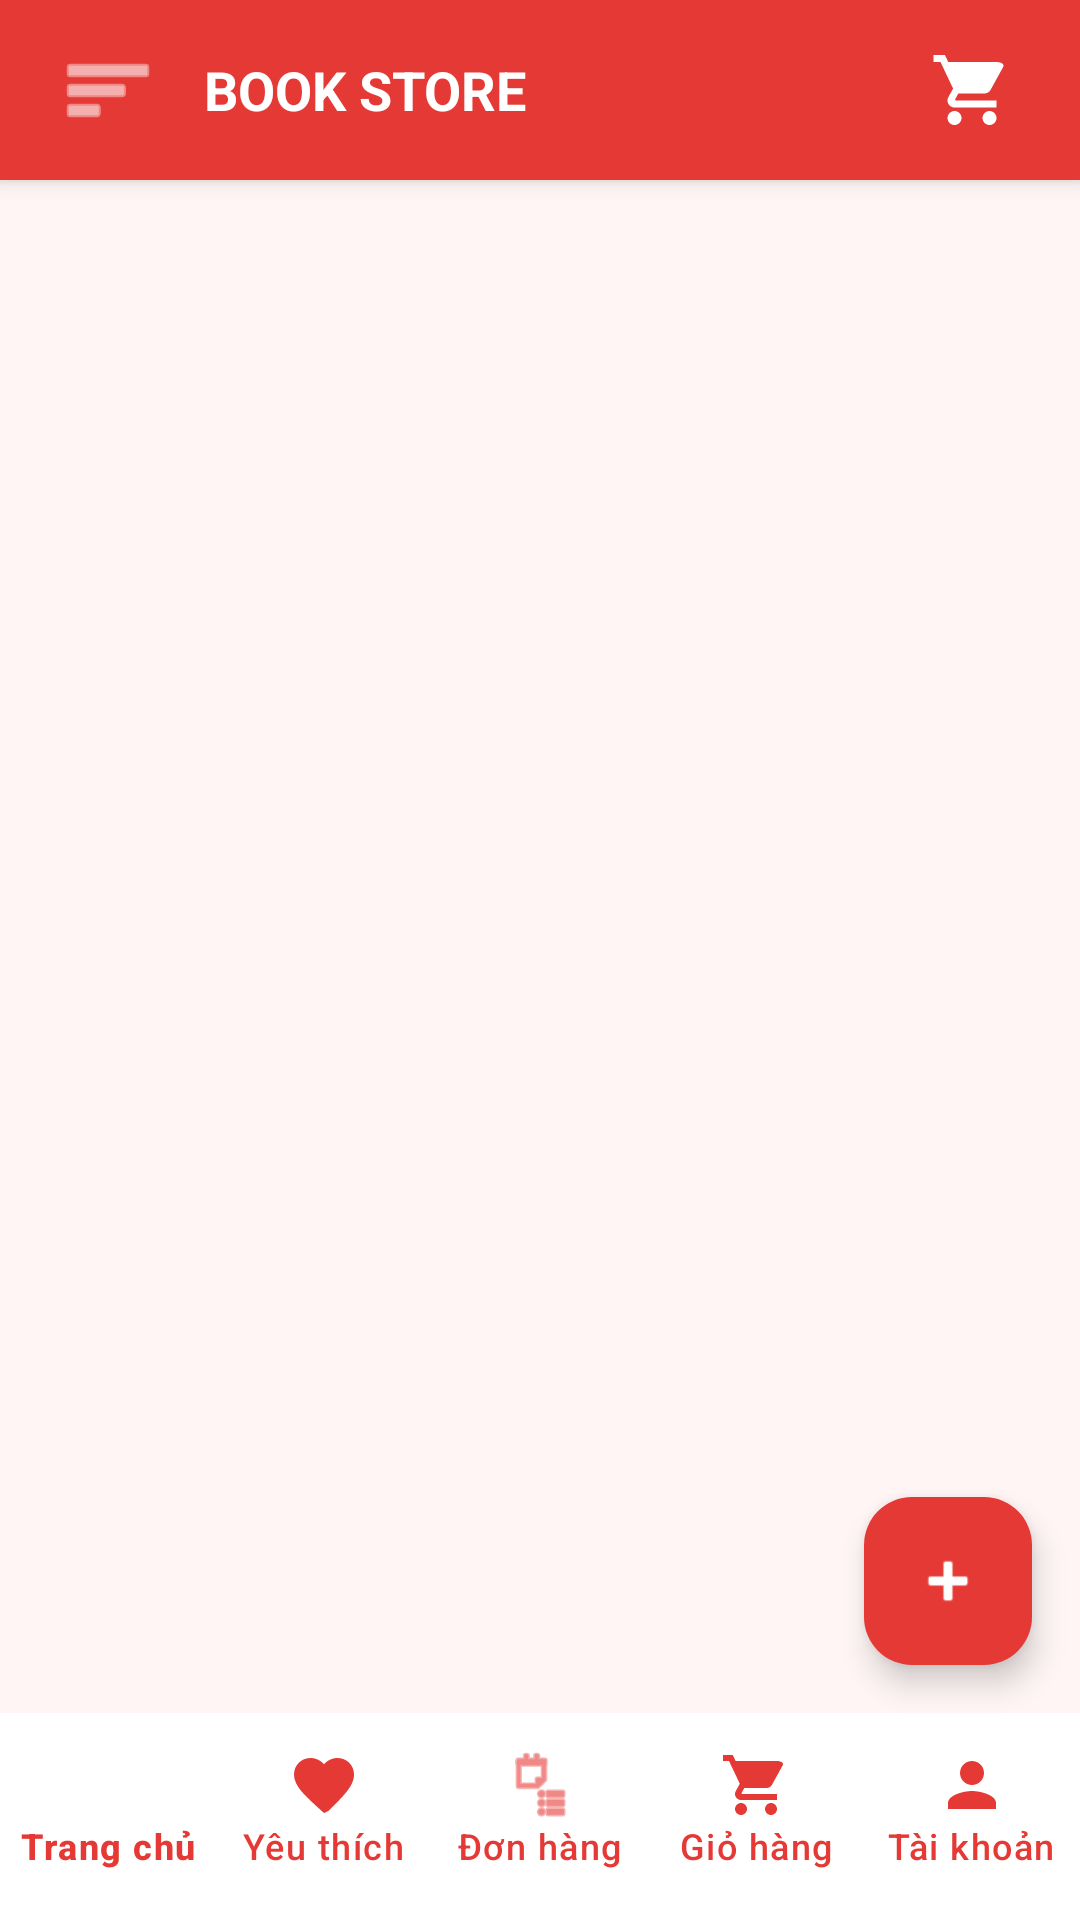

Icons on this 1080 × 1920 Android screen, each with its box as (x1, y1, x2, y2):
add: (864, 1497, 1032, 1665)
shopping cart: (933, 55, 1004, 125)
sort by size: (67, 64, 149, 117)
